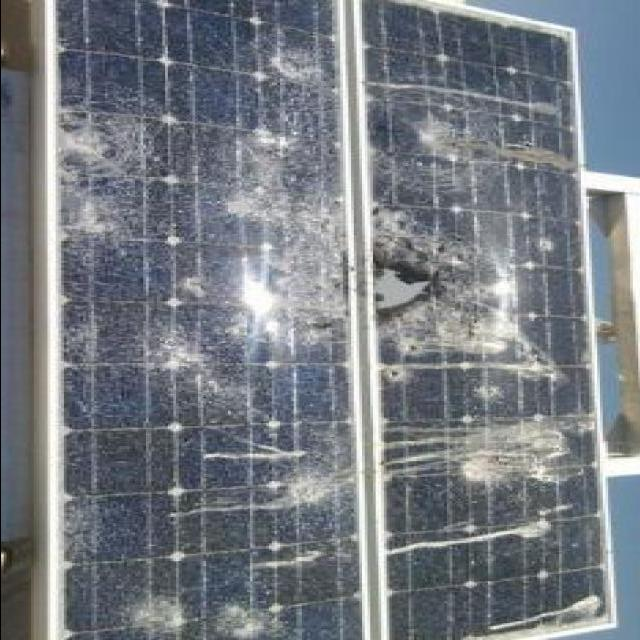cracked: (47, 1, 342, 640), (380, 12, 580, 640)
